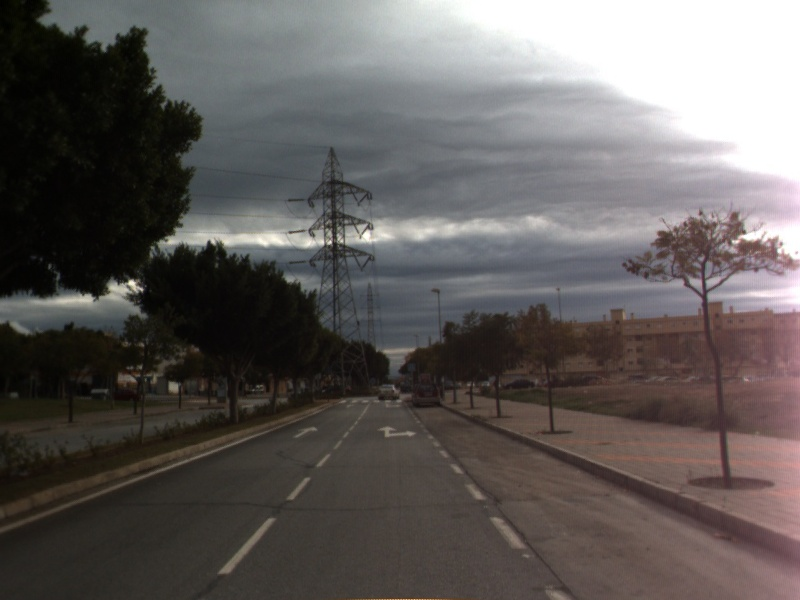STRAIGHT: (291, 424, 320, 440)
STRAIGHT_RIGHT: (375, 424, 419, 439)
